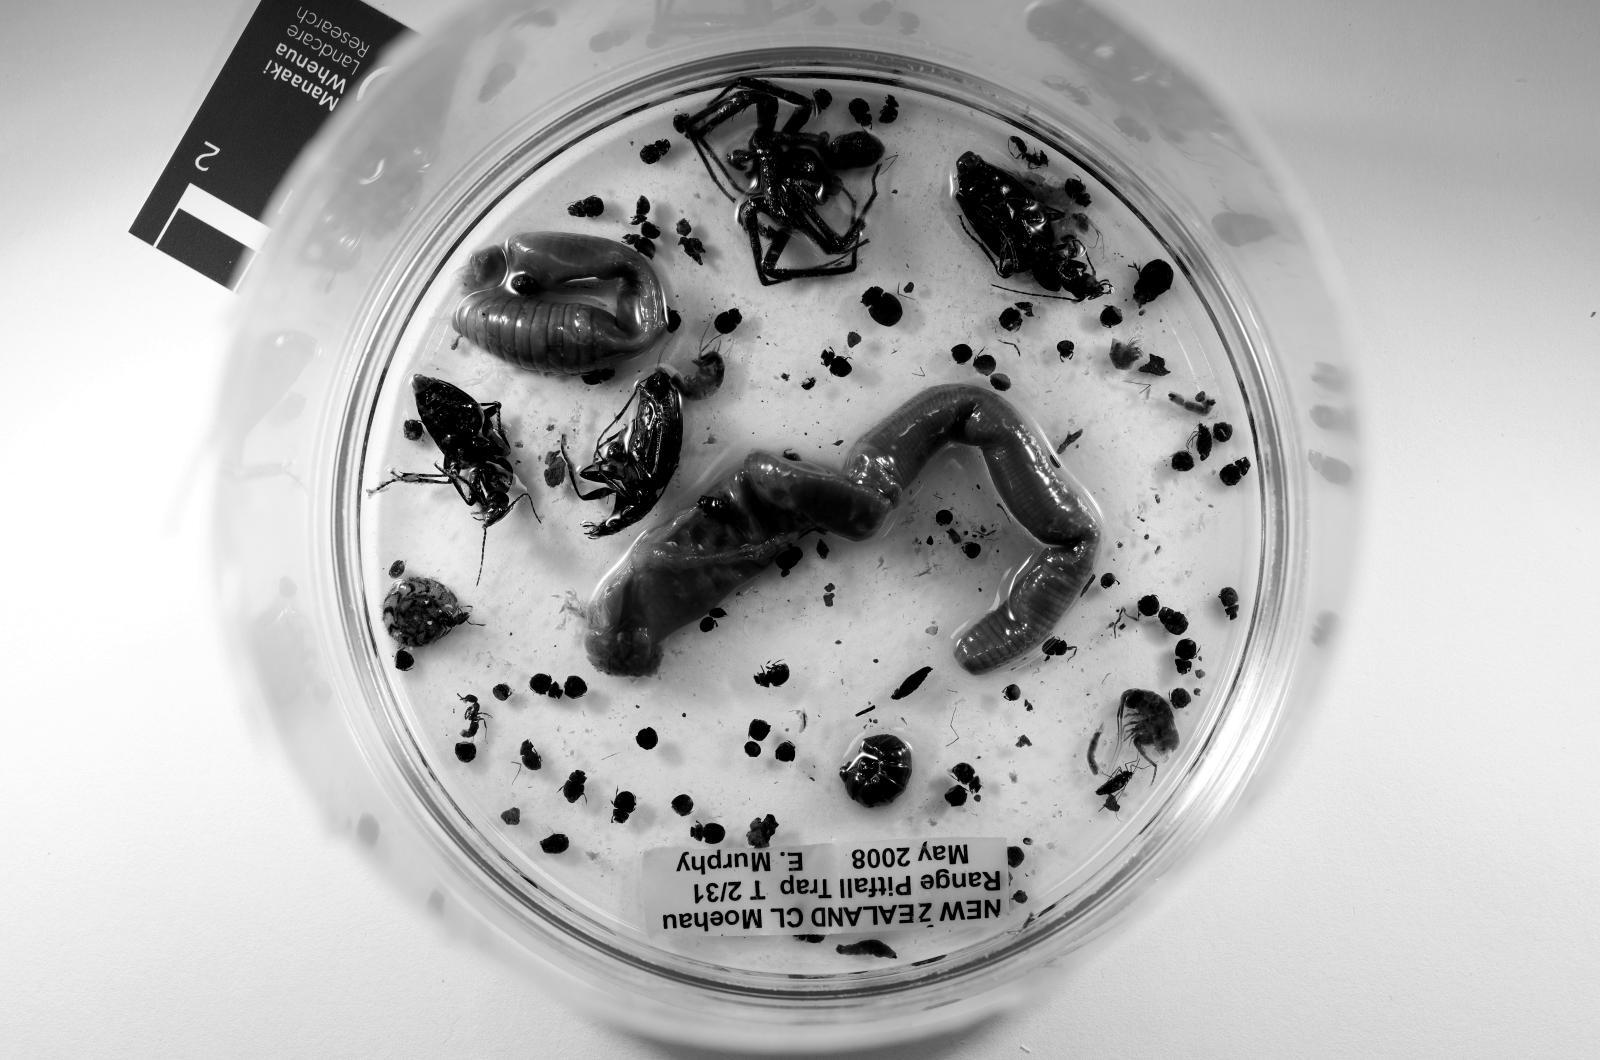amphipoda: (1116, 689, 1178, 761), (678, 351, 725, 401)
annelida: (584, 385, 1100, 677), (453, 233, 666, 373)
araneae: (678, 78, 884, 286)
carabidae: (956, 152, 1112, 298), (391, 376, 519, 537), (578, 370, 681, 537)
coleoptera: (1134, 261, 1172, 307), (862, 286, 903, 326), (1219, 457, 1250, 488), (1062, 177, 1091, 208), (712, 307, 744, 335), (562, 770, 588, 804), (950, 764, 981, 792), (822, 348, 850, 379), (528, 674, 562, 699), (622, 233, 656, 258), (612, 792, 638, 823), (753, 665, 791, 686), (641, 140, 672, 165), (847, 96, 872, 127), (691, 823, 725, 845), (1175, 640, 1197, 674), (1159, 609, 1188, 634), (1041, 637, 1075, 658), (569, 196, 603, 217), (1219, 587, 1238, 618), (878, 93, 897, 124), (522, 742, 541, 770), (631, 196, 650, 224)
diptera: (1097, 761, 1144, 798)
formicidae: (459, 696, 488, 739), (1009, 137, 1047, 168)
gastropoda: (381, 578, 469, 646)
isopoda: (841, 736, 912, 807)
